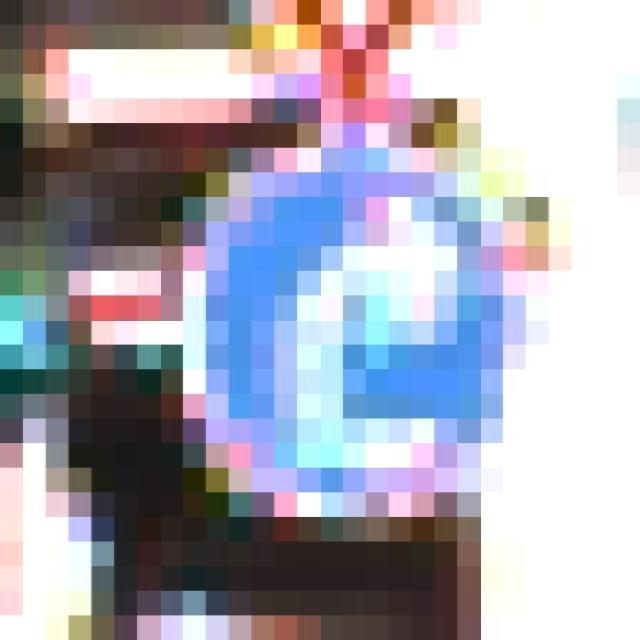Turn right ahead: (182, 123, 548, 542)
